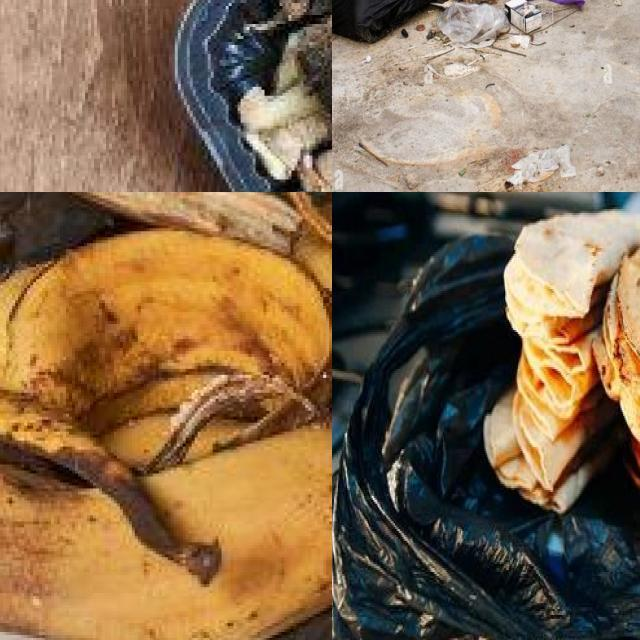Garbage: (0, 192, 332, 640), (332, 210, 640, 640), (171, 0, 332, 192)
